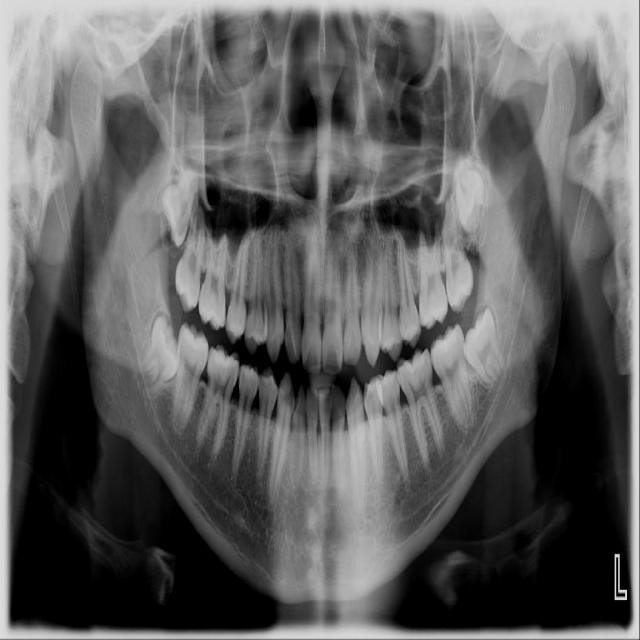impacted tooth: (133, 314, 182, 400), (464, 305, 514, 385)
